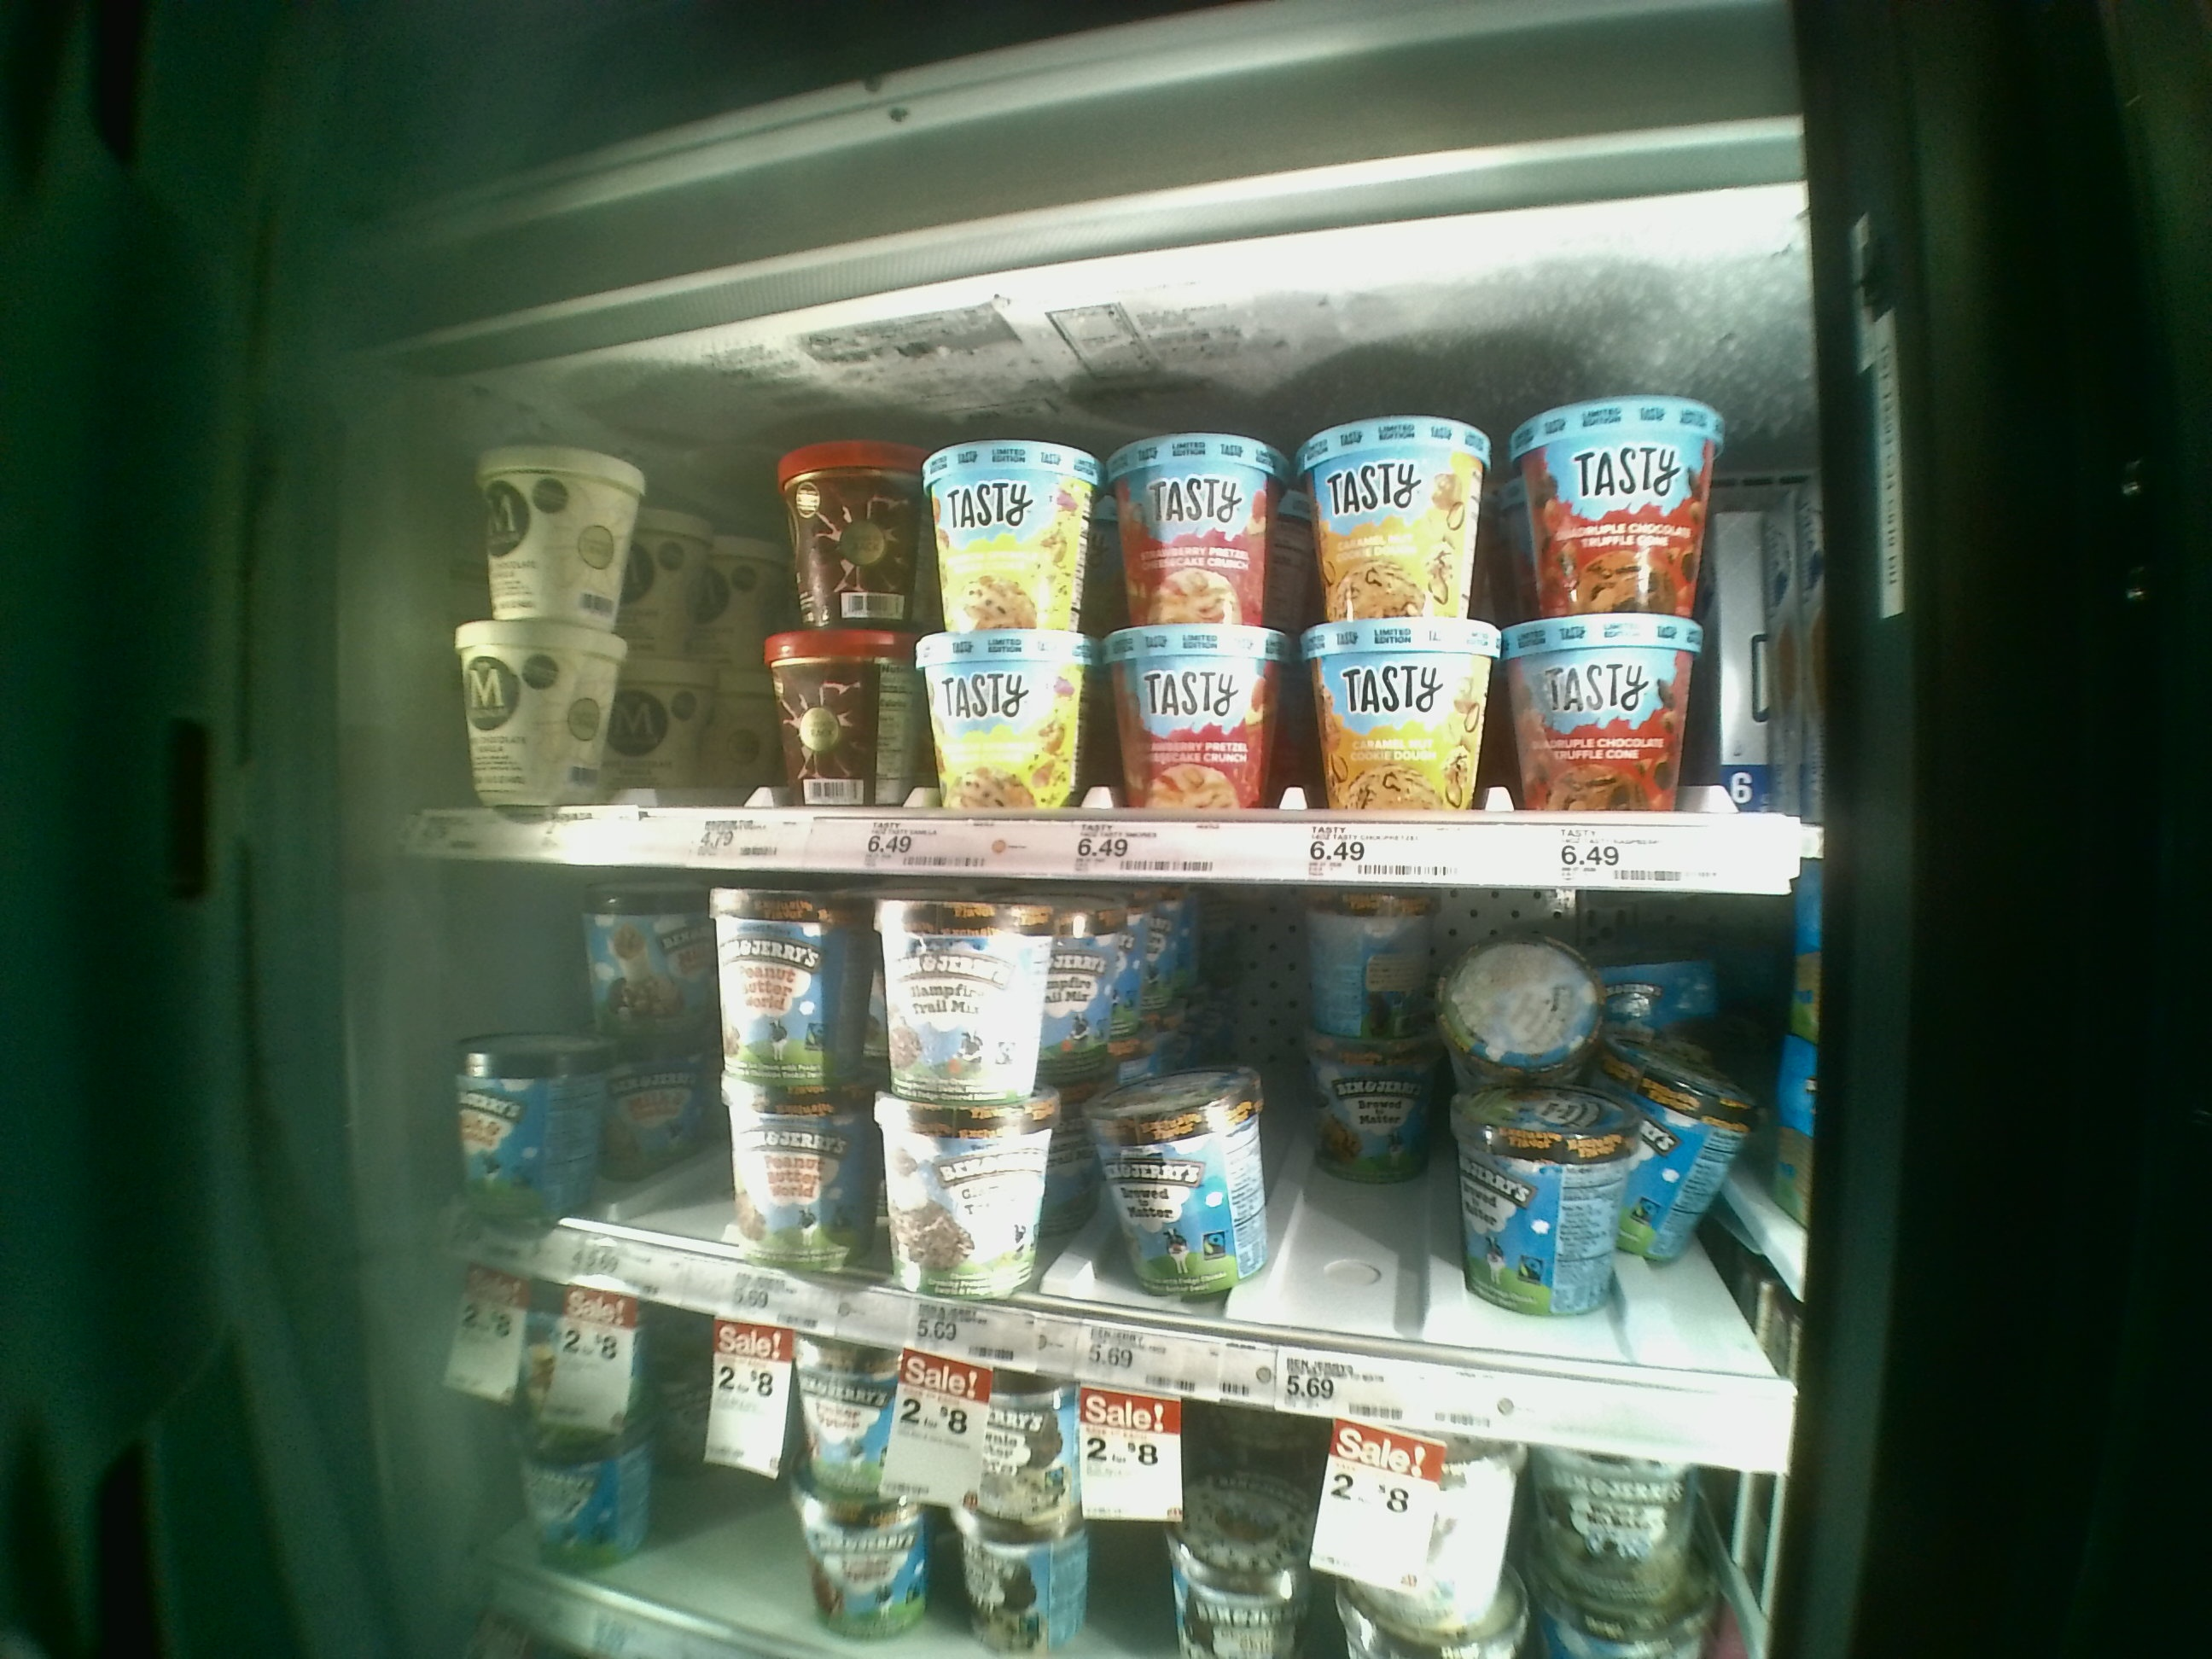shelf: (369, 864, 1799, 1474), (374, 328, 1810, 868)
